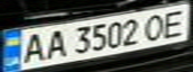0: (106, 19, 127, 49)
2: (118, 16, 145, 47)
3: (69, 24, 93, 56)
5: (90, 20, 112, 52)
A: (15, 30, 51, 64), (39, 27, 69, 61)
E: (157, 7, 190, 39)
O: (139, 11, 172, 42)
